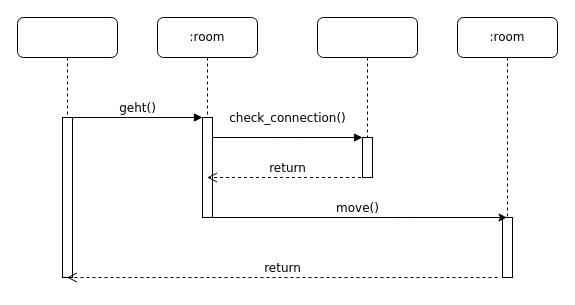
The diagram is 575 pixels wide and 305 high, and some of its shapes have lost their labels. Each missing label, with the box of its shape:
:connection_list: (316, 16, 418, 178)
:Player: (16, 16, 118, 278)
